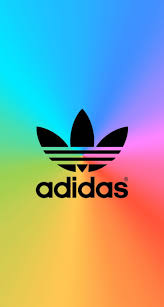adidas: (33, 106, 128, 199)
